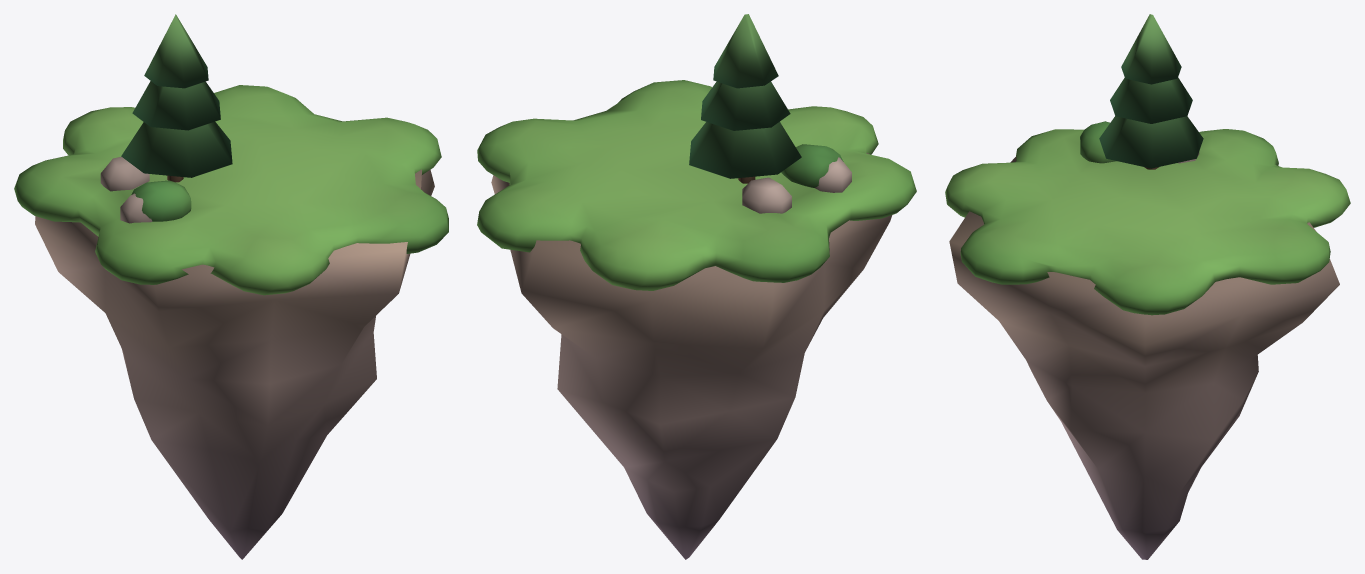
File: env_sky_islet_5_lite.glb
The picture shows the model from 3 angles, left to right: view 1: azimuth 30°, elevation 25°; view 2: azimuth 150°, elevation 25°; view 3: azimuth 270°, elevation 25°; orthographic projection. The views are drawn at different scales.
Parts seen in each view (by area): view 1: SM_sky_sky_vc_x0_z0.035; view 2: SM_sky_sky_vc_x0_z0.035; view 3: SM_sky_sky_vc_x0_z0.035.
Boxes of the visible parts, left/top/right/bottom form: SM_sky_sky_vc_x0_z0.035: left=14, top=14, right=448, bottom=559; SM_sky_sky_vc_x0_z0.035: left=477, top=14, right=916, bottom=559; SM_sky_sky_vc_x0_z0.035: left=945, top=14, right=1350, bottom=559.
Bounding box in the file's own units: 7.22 × 10.24 × 7.28.
